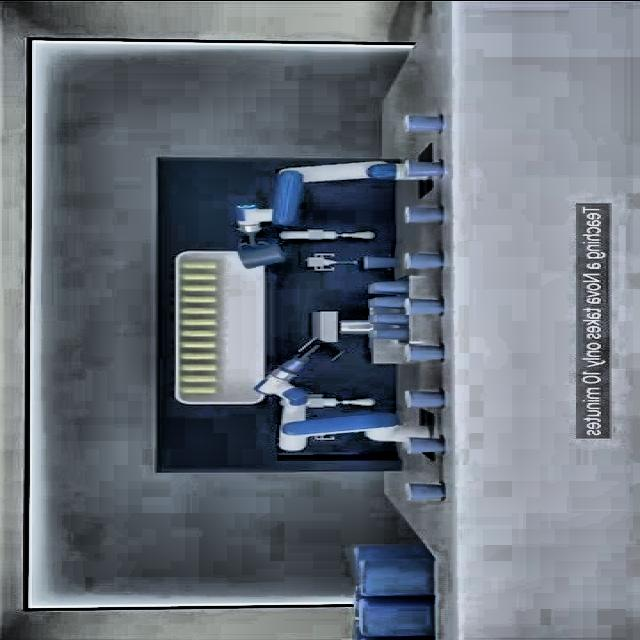robot: (251, 338, 434, 457), (231, 158, 398, 268)
